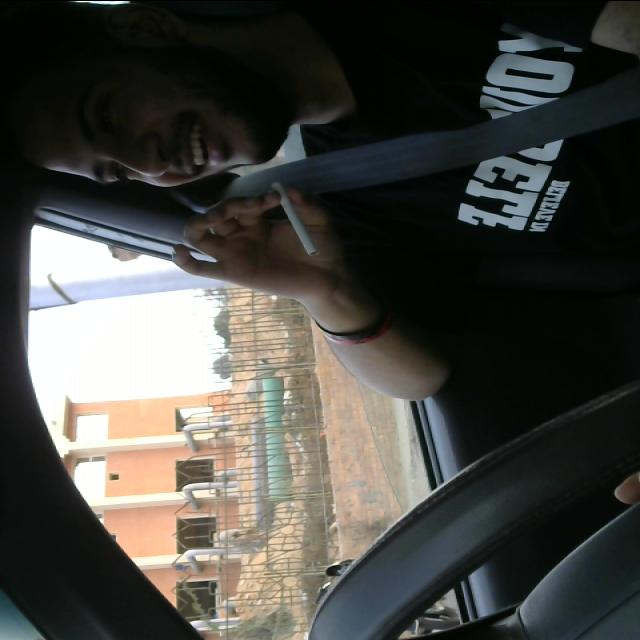smoking: (266, 175, 332, 261)
